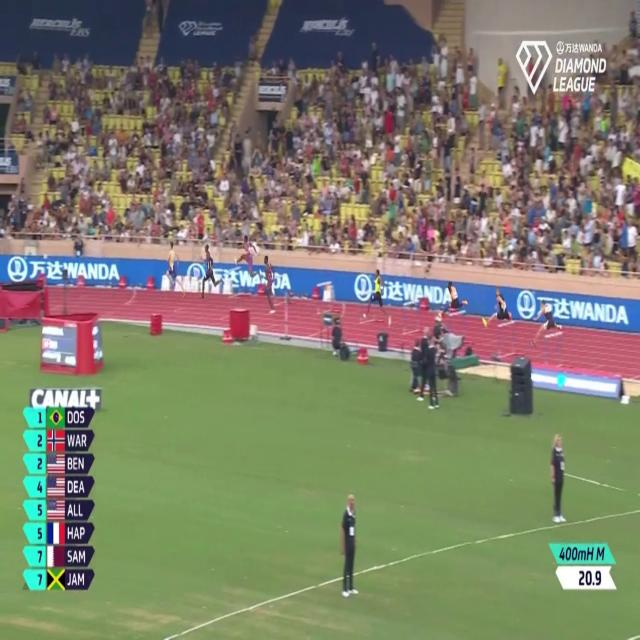athlete: (358, 267, 394, 330), (528, 301, 564, 349), (199, 239, 225, 303), (233, 235, 263, 285), (166, 233, 187, 303), (481, 286, 515, 328), (262, 251, 279, 318), (440, 284, 469, 314)
hurdle: (496, 318, 518, 362), (402, 295, 422, 343), (543, 330, 566, 370), (448, 308, 469, 339), (315, 280, 334, 313)
